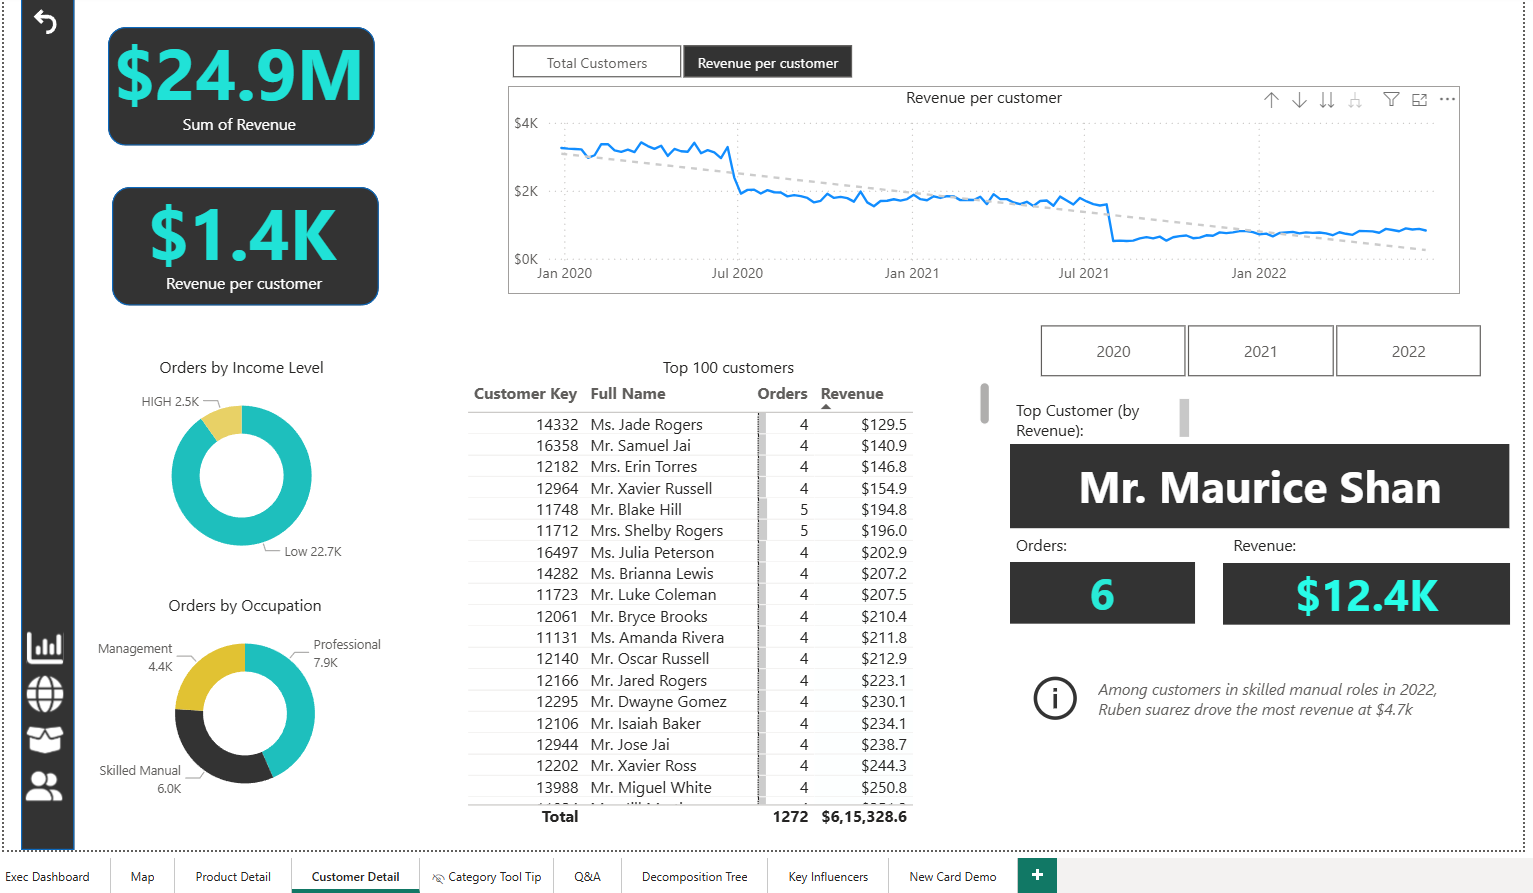

The page's visual inventory and layout, read from the dashboard file:
{"tool":"powerbi","page":{"name":"Customer Detail","canvas":[1280,720],"ordinal":3},"visuals":[{"type":"shape","box":[14,0,45,720],"z":0},{"type":"actionButton","box":[15,607.8,59.1,38.8],"z":0,"group":"g1"},{"type":"actionButton","box":[15,569,58.2,38.8],"z":1000,"group":"g1"},{"type":"shape","box":[91.1,160.7,225,100],"z":1000},{"type":"actionButton","box":[15,530.2,59.1,38.8],"z":2000,"group":"g1"},{"type":"shape","box":[87.7,26,225,100],"z":2000},{"type":"actionButton","box":[14.3,646.6,58.2,38.8],"z":3000,"group":"g1"},{"type":"card","fields":{"Values":["Measure Table.Average revenue per customer"]},"box":[70.6,149.1,259.4,111.2],"z":3000},{"type":"card","fields":{"Values":["Sales Data.Revenue"]},"box":[73.8,18,248.4,105.8],"z":4000},{"type":"lineChart","fields":{"Y":["Measure Table.Average revenue per customer"],"Category":["Calendar Lookup.Date Hierarchy.Start of Year","Calendar Lookup.Date Hierarchy.Start of Month","Calendar Lookup.Date Hierarchy.Start of Week","Calendar Lookup.Date Hierarchy.Date"]},"box":[425.2,75.9,802.8,175.5],"z":5000},{"type":"donutChart","title":" Orders by Income Level","fields":{"Y":["Measure Table.Total Orders"],"Category":["Customer Lookup.Income Level"]},"box":[70.9,303.2,259,184.7],"z":6000},{"type":"donutChart","title":" Orders by Occupation","fields":{"Y":["Measure Table.Total Orders"],"Category":["Customer Lookup.Occupation"]},"box":[73.4,504.5,259.7,184.5],"z":7000},{"type":"tableEx","title":"Top 100 customers","fields":{"Values":["Customer Lookup.CustomerKey","Customer Lookup.Full Name","Measure Table.Total Orders","Measure Table.Total Revenue"]},"box":[385.6,303.2,450.7,400.7],"z":8000},{"type":"card","fields":{"Values":["Customer Lookup.Customer Full Name(CC)"]},"box":[848.1,377.7,421.4,70.8],"z":9000},{"type":"card","fields":{"Values":["Measure Table.Total Orders"]},"box":[848.1,477.4,155.6,51.6],"z":10000},{"type":"card","fields":{"Values":["Measure Table.Total Revenue"]},"box":[1027.3,478.3,242.2,51.6],"z":11000},{"type":"textbox","box":[848.1,334.9,155.6,42.8],"z":12000},{"type":"textbox","box":[848.1,448.5,148.6,28.9],"z":13000},{"type":"textbox","box":[1027.3,448.5,152.1,28.9],"z":14000},{"type":"slicer","fields":{"Values":["Calendar Lookup.Year"]},"box":[848.1,271,421.4,56.8],"z":15000},{"type":"actionButton","box":[862.7,568.1,365.2,47.6],"z":16000},{"type":"actionButton","box":[20.2,6.7,44.7,29.5],"z":17000},{"type":"group","id":"g1","title":"Navigation Buttons","box":[14.3,530.2,59.8,155.3],"z":18000},{"type":"slicer","fields":{"Values":["Customer Metric Selection.Customer Metric Selection"]},"box":[403.1,34.4,336.1,41.5],"z":20000}]}

Visuals, with their boxes on the page's 1280x720 design canvas (x1, y1, x2, y2). These are canvas units, not pixel positions in the 1533x893 screenshot, which may show the page scaled, cropped or inside an application window:
shape: 14, 0, 59, 720
actionButton: 15, 608, 74, 647
actionButton: 15, 569, 73, 608
shape: 91, 161, 316, 261
actionButton: 15, 530, 74, 569
shape: 88, 26, 313, 126
actionButton: 14, 647, 72, 685
card - Measure Table.Average revenue per customer: 71, 149, 330, 260
card - Sales Data.Revenue: 74, 18, 322, 124
lineChart - Measure Table.Average revenue per customer x Calendar Lookup.Date Hierarchy.Start of Year: 425, 76, 1228, 251
" Orders by Income Level" donutChart: 71, 303, 330, 488
" Orders by Occupation" donutChart: 73, 504, 333, 689
"Top 100 customers" tableEx: 386, 303, 836, 704
card - Customer Lookup.Customer Full Name(CC): 848, 378, 1270, 448
card - Measure Table.Total Orders: 848, 477, 1004, 529
card - Measure Table.Total Revenue: 1027, 478, 1270, 530
textbox: 848, 335, 1004, 378
textbox: 848, 448, 997, 477
textbox: 1027, 448, 1179, 477
slicer - Calendar Lookup.Year: 848, 271, 1270, 328
actionButton: 863, 568, 1228, 616
actionButton: 20, 7, 65, 36
"Navigation Buttons" group: 14, 530, 74, 686
slicer - Customer Metric Selection.Customer Metric Selection: 403, 34, 739, 76
